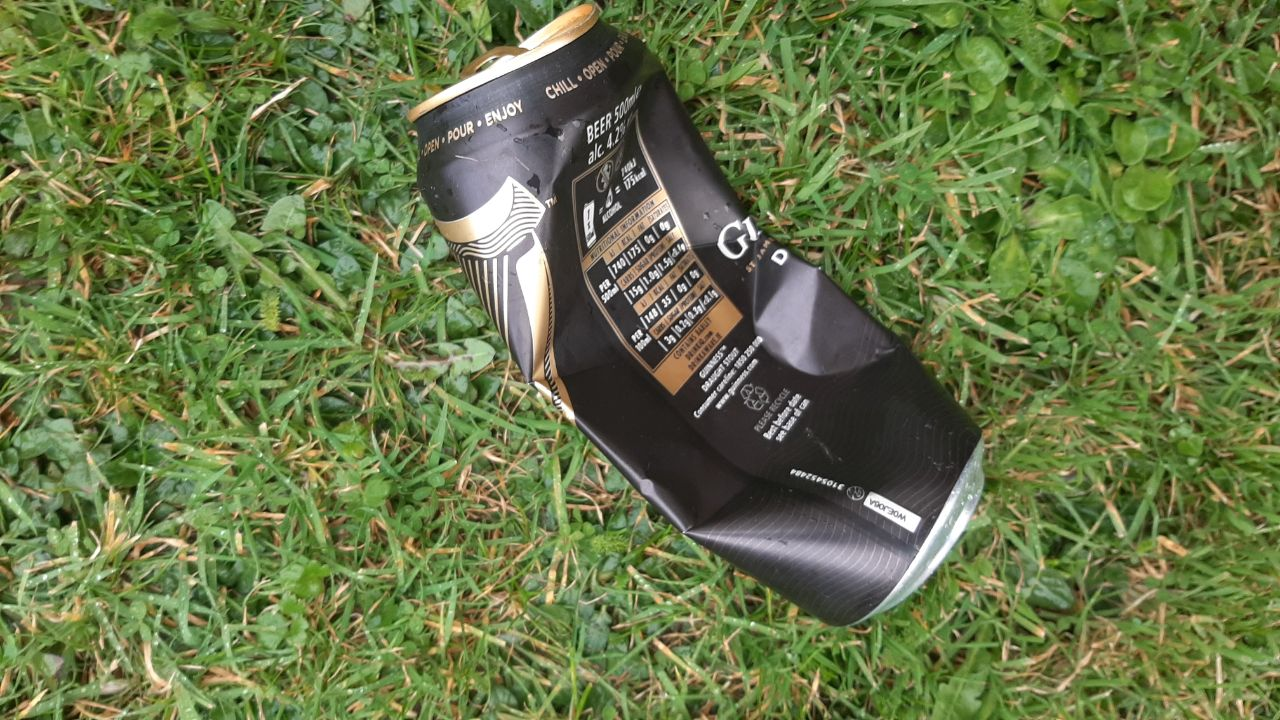Can: (408, 4, 986, 627)
